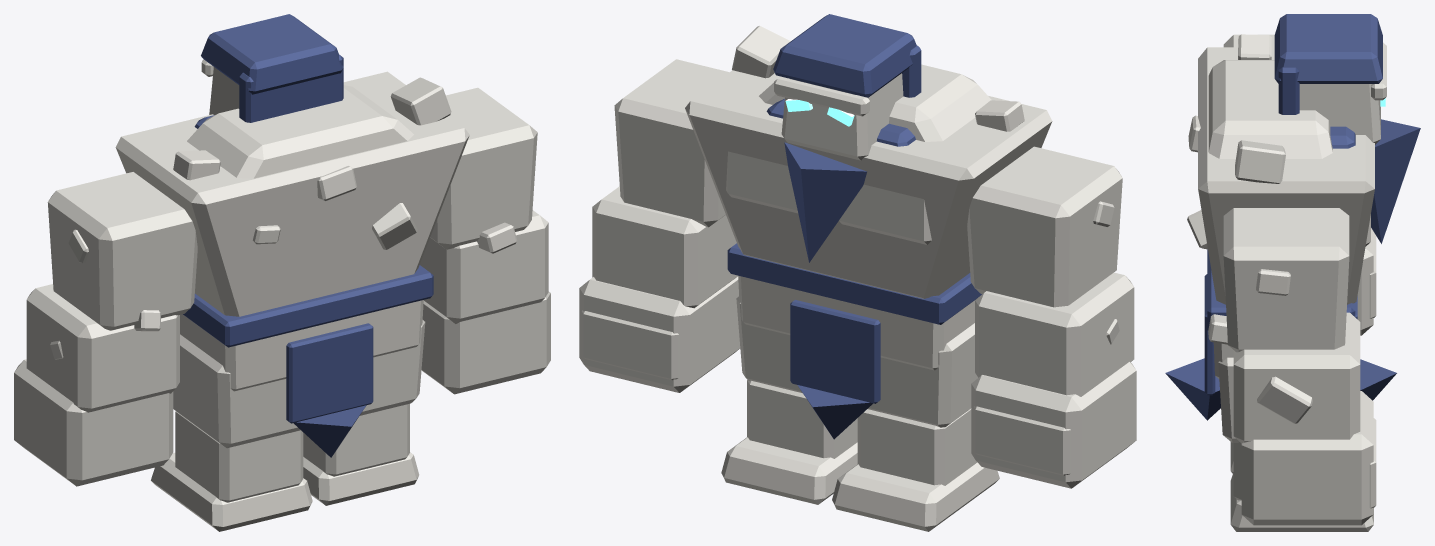
File: salt_giant.glb
The picture shows the model from 3 angles, left to right: view 1: azimuth 30°, elevation 25°; view 2: azimuth 150°, elevation 25°; view 3: azimuth 270°, elevation 25°; orthographic projection. The views are drawn at different scales.
Visible parts, largest first — view 1: Torso, ArmL, ArmR, Hips, LegL, LegR; view 2: Torso, ArmL, ArmR, Hips, LegL, LegR; view 3: ArmR, Torso, Hips, LegR, ArmL.
Boxes of the visible parts, <box> form: Torso: <box>115,14,469,316</box>; ArmL: <box>14,172,197,486</box>; ArmR: <box>419,87,550,394</box>; Hips: <box>180,265,433,457</box>; LegL: <box>151,334,312,531</box>; LegR: <box>303,320,425,505</box>; Torso: <box>685,14,1052,298</box>; ArmL: <box>967,146,1136,488</box>; ArmR: <box>579,59,740,392</box>; Hips: <box>727,243,981,439</box>; LegL: <box>832,323,999,531</box>; LegR: <box>721,296,857,504</box>; ArmR: <box>1208,208,1376,525</box>; Torso: <box>1187,14,1420,304</box>; Hips: <box>1165,249,1396,420</box>; LegR: <box>1218,357,1373,531</box>; ArmL: <box>1223,34,1376,335</box>.
Size of the model in its own units: 2.19 by 1.88 by 0.9685.
